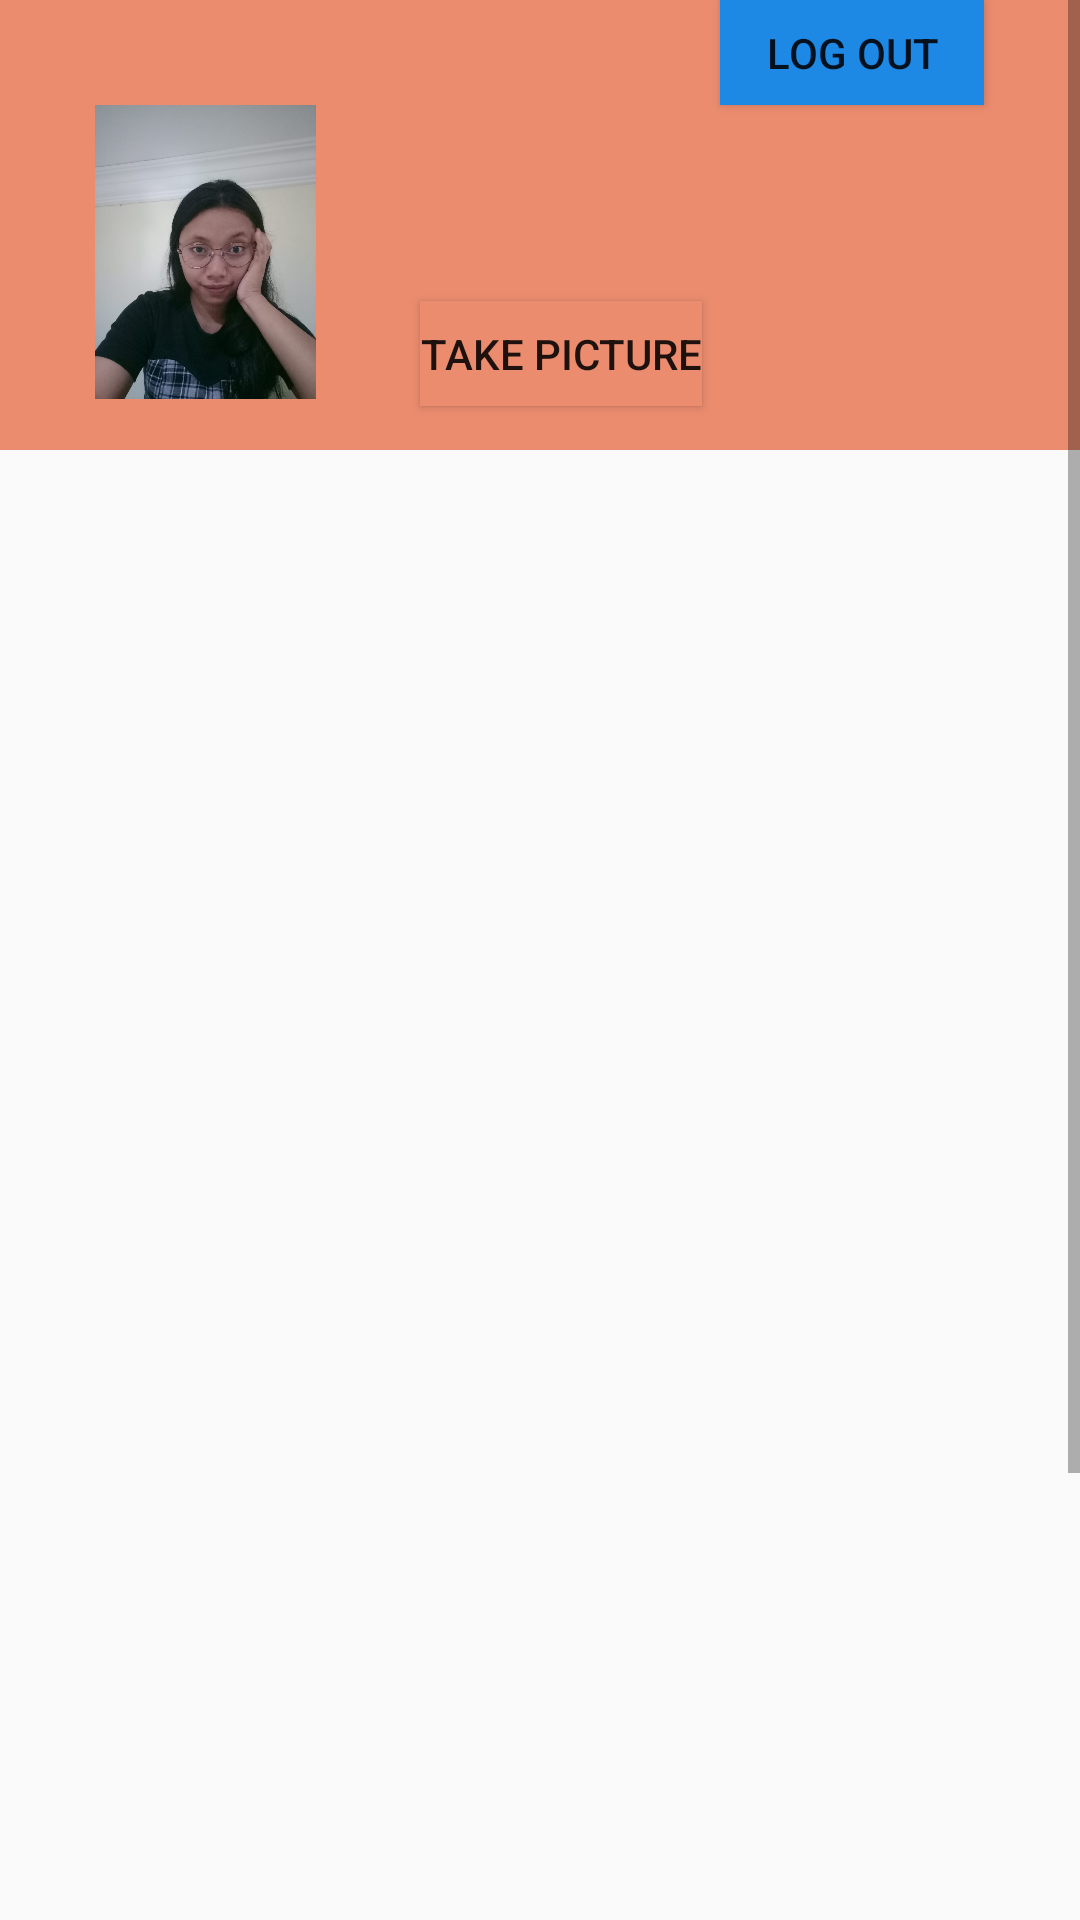

Screen size 1080 x 1920. Icon name, then its center in pixels as point (x, y):
captured image: point (205, 252)
